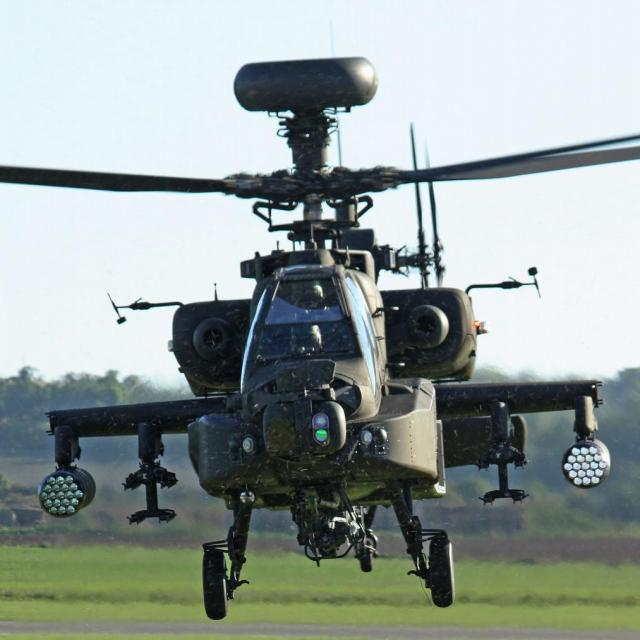MIL_HELO: (8, 50, 640, 626)
